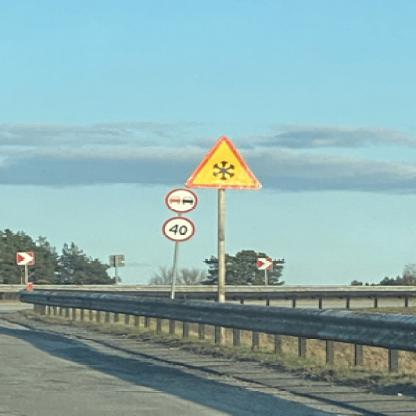speedlimit: (160, 216, 194, 242)
